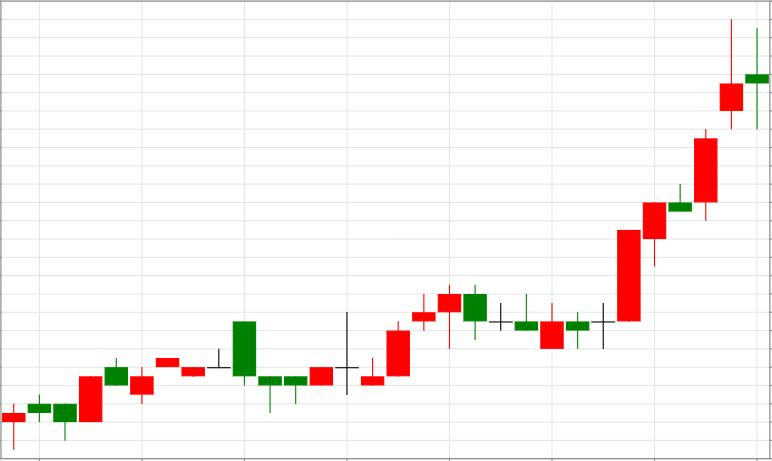shooting_star_fall: (541, 20, 742, 350)
